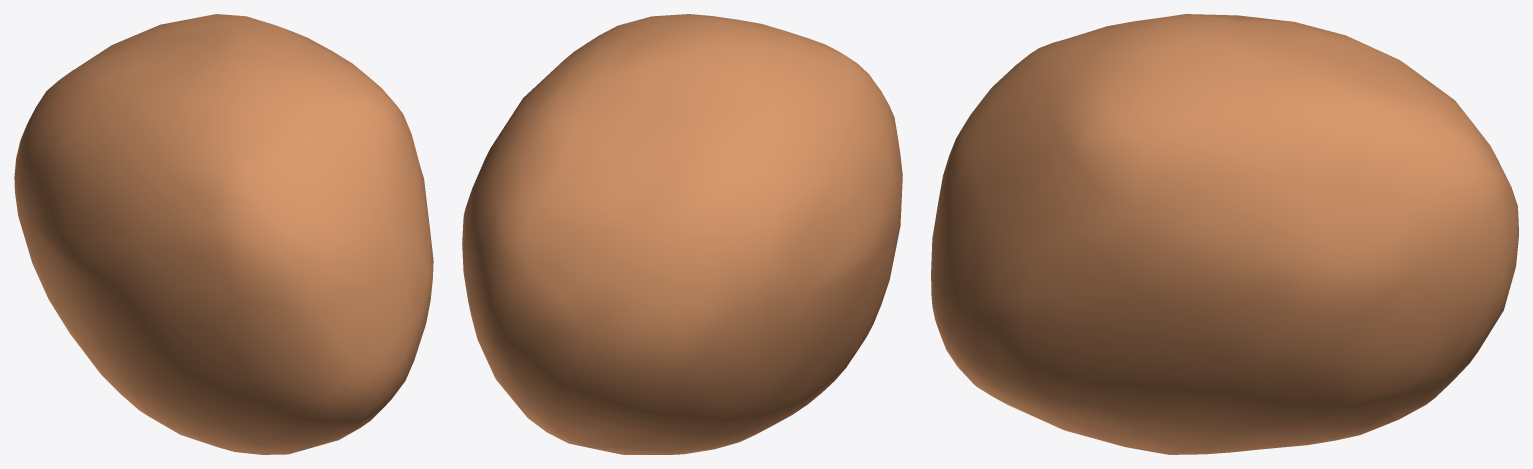
The picture shows the model from 3 angles, left to right: view 1: azimuth 30°, elevation 25°; view 2: azimuth 150°, elevation 25°; view 3: azimuth 270°, elevation 25°; orthographic projection. The views are drawn at different scales.
Parts seen in each view (by area): view 1: 右侧睾丸; view 2: 右侧睾丸; view 3: 右侧睾丸.
Part boxes in pixels (x1,y1,x2,y2): 右侧睾丸: [14, 14, 433, 454]; 右侧睾丸: [462, 14, 902, 454]; 右侧睾丸: [931, 14, 1518, 454].
Size of the model in its own units: 0.0311 by 0.0335 by 0.0434.
